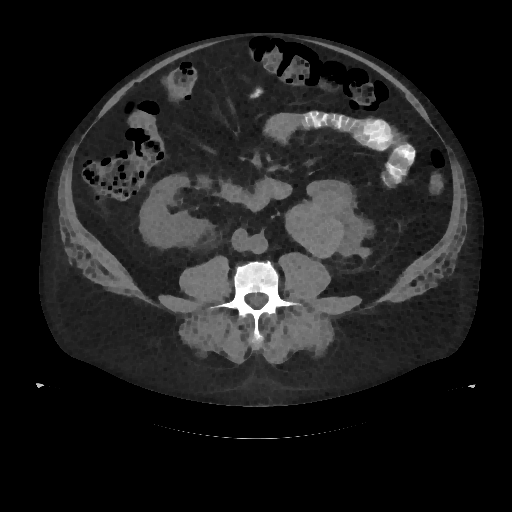Lesion: (282, 201, 345, 261)
